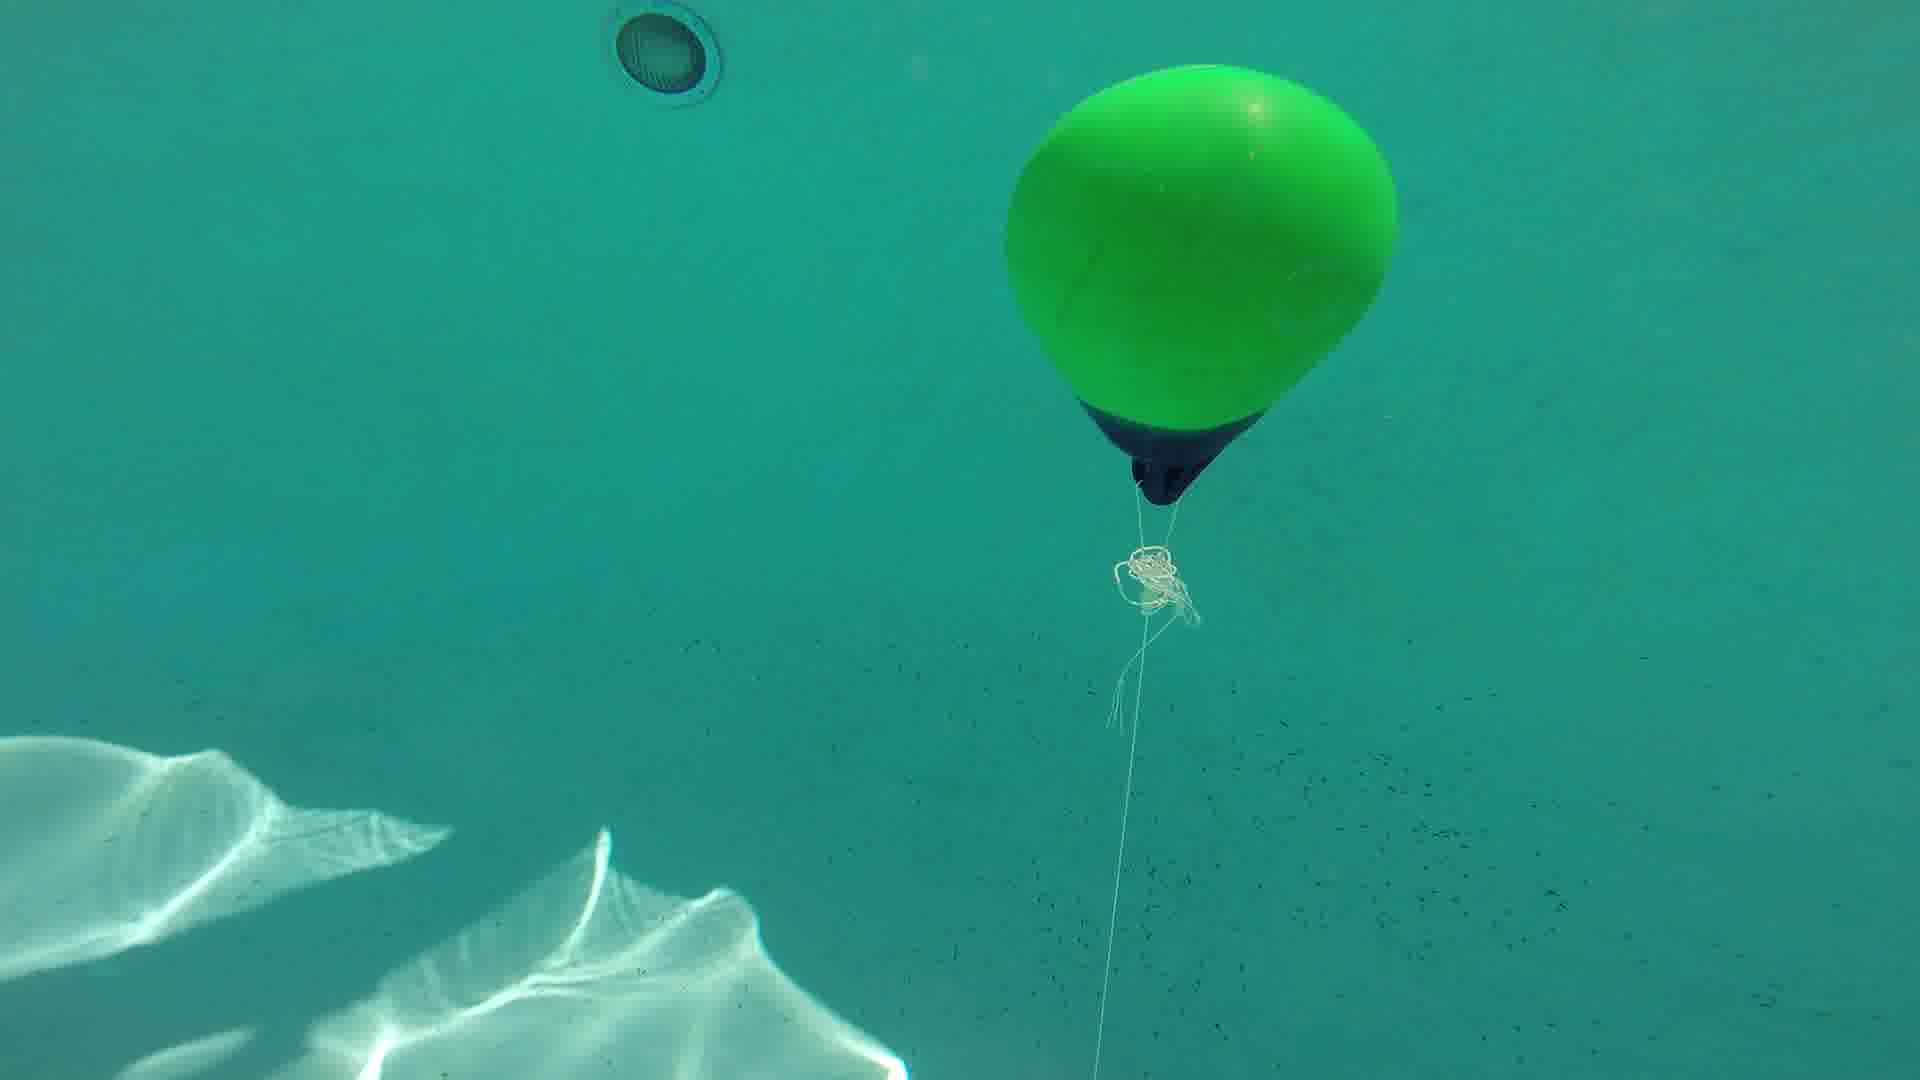yellow_buoy: (993, 50, 1404, 518)
